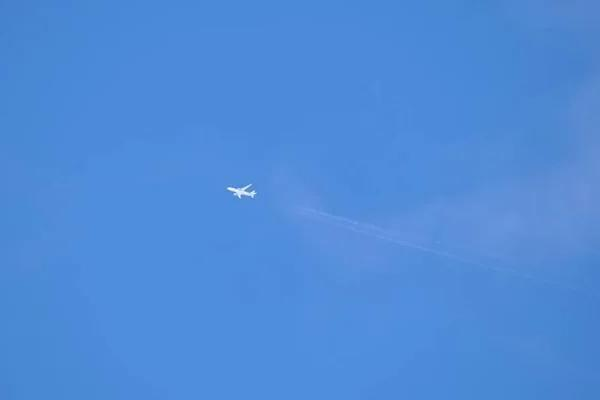Plane: (214, 175, 271, 207)
